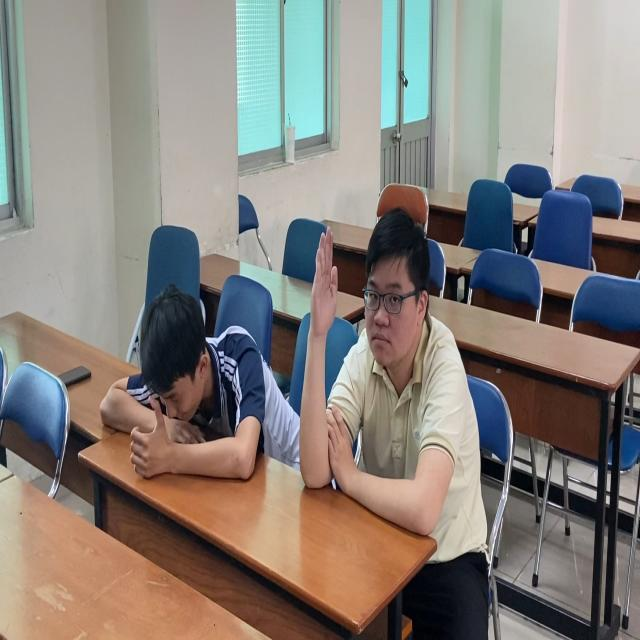raise_hand: (296, 209, 471, 548)
